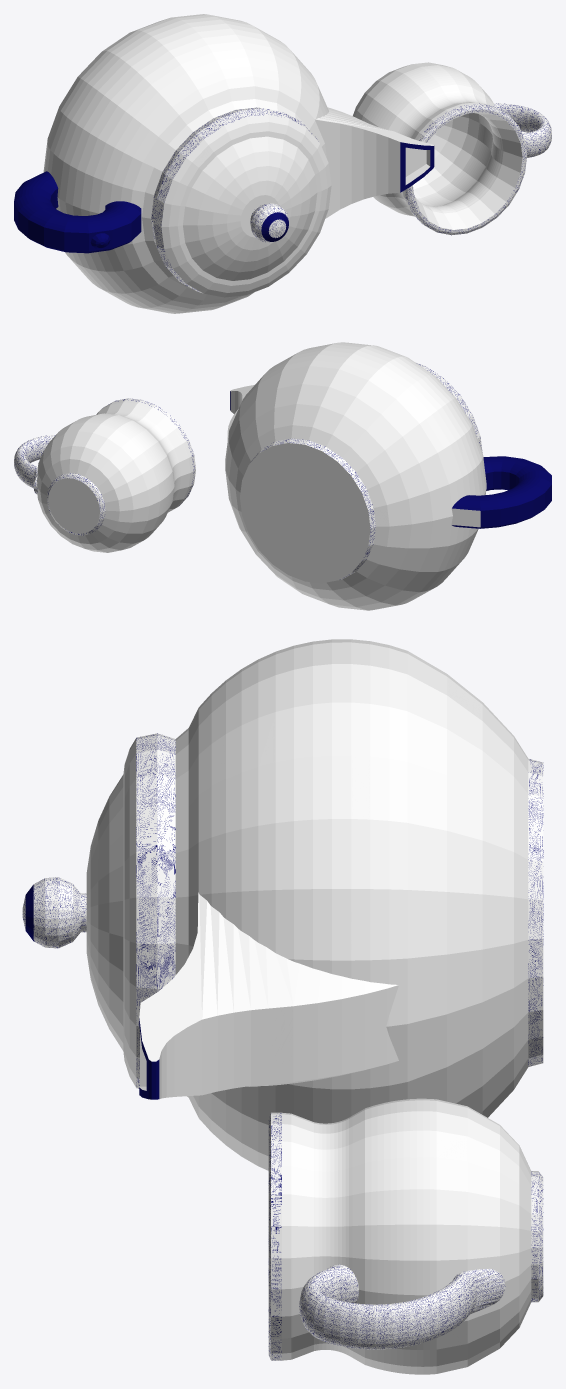
3 renders of one model, top to bottom at view 1: azimuth 30°, elevation 25°; view 2: azimuth 150°, elevation 25°; view 3: azimuth 270°, elevation 25°, orthographic. The views are drawn at different scales.
Visible parts, largest first — view 1: czajnik z kubkiem; view 2: czajnik z kubkiem; view 3: czajnik z kubkiem.
Boxes of the visible parts, bbox=[...] form: czajnik z kubkiem: bbox=[14, 14, 551, 313]; czajnik z kubkiem: bbox=[14, 342, 551, 610]; czajnik z kubkiem: bbox=[22, 639, 543, 1374].
Bounding box in the file's own units: 16.72 × 8.05 × 7.63.
